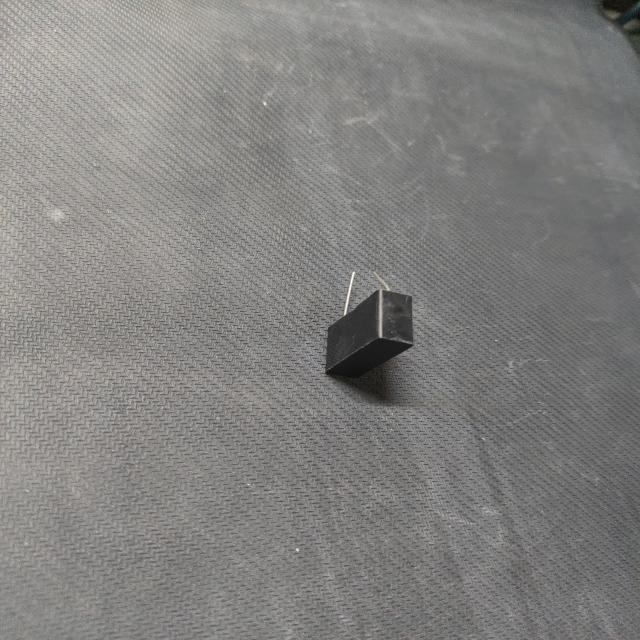capacitor: (312, 266, 426, 386)
